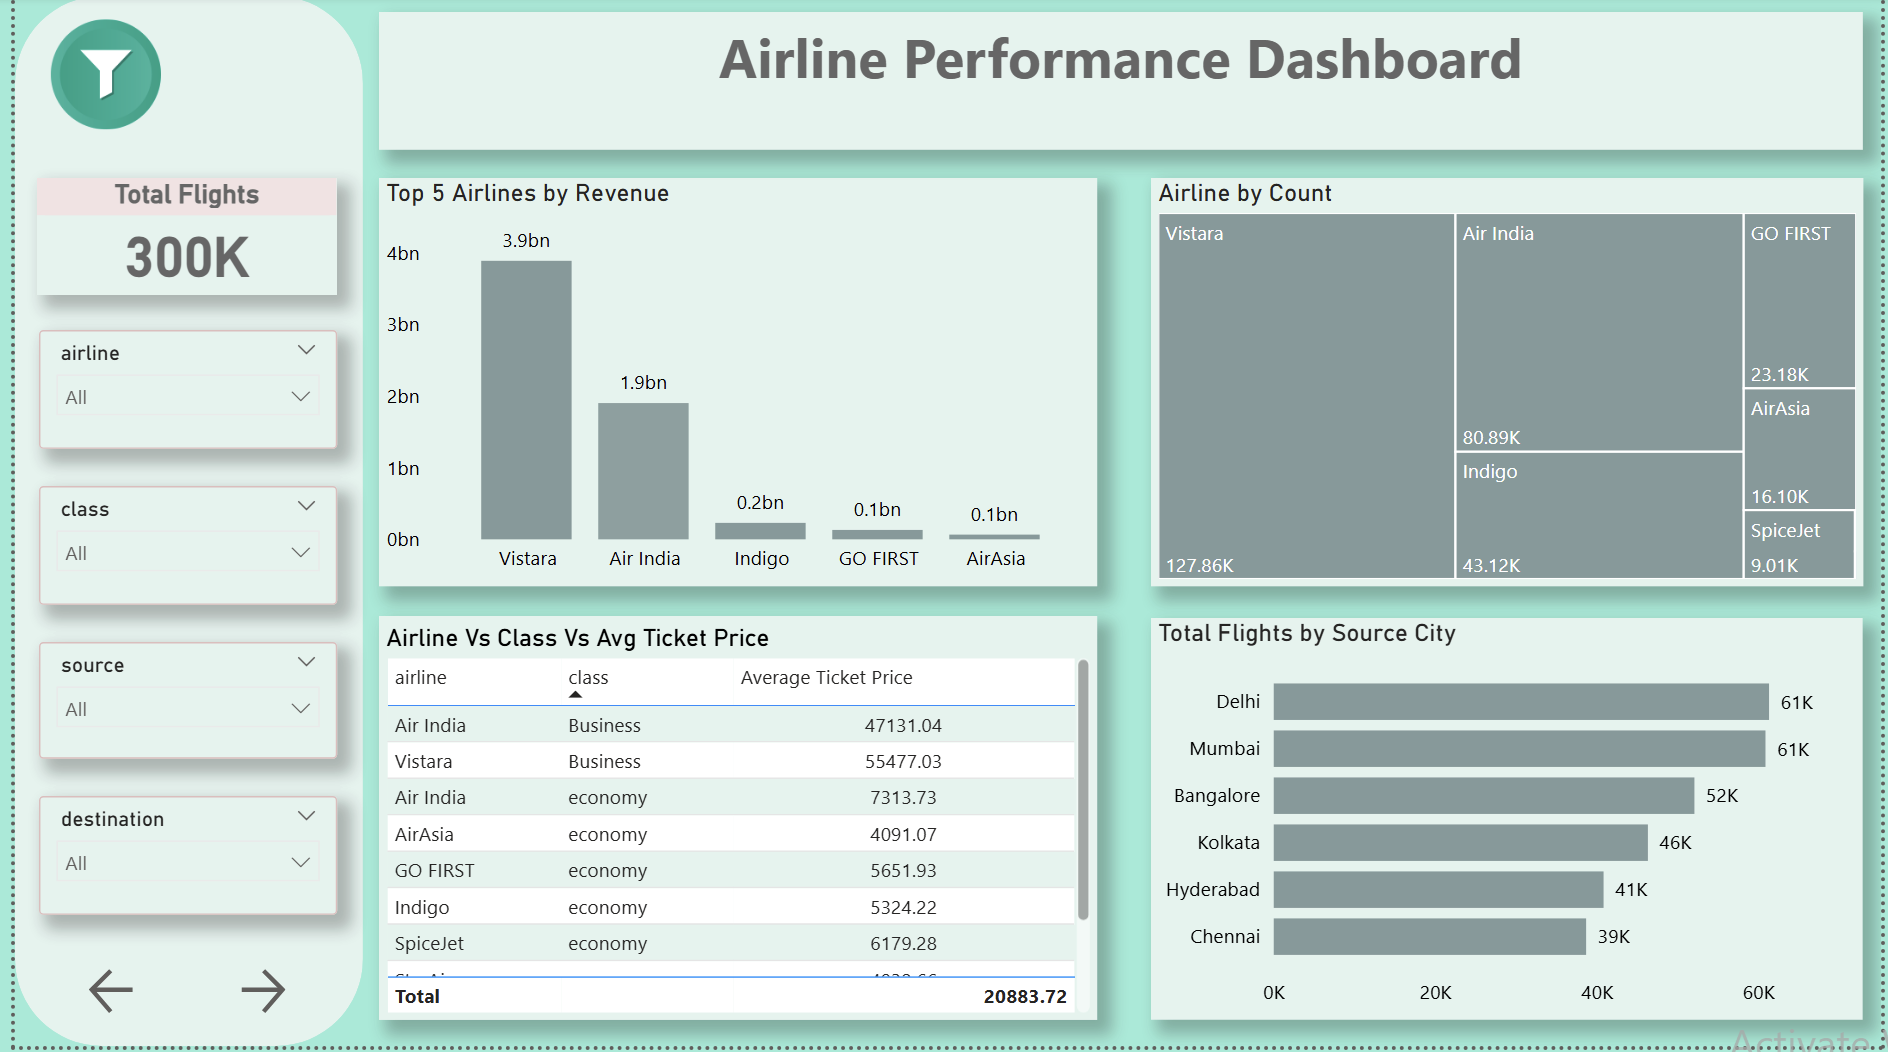

The page's visual inventory and layout, read from the dashboard file:
{"tool":"powerbi","page":{"name":"Airline Performance","canvas":[1280,720],"ordinal":0},"visuals":[{"type":"columnChart","title":"Top 5 Airlines by Revenue","fields":{"Category":["cleaned_flight_data.airline"],"Y":["cleaned_flight_data.total sales"]},"box":[249.6,124.8,492.3,279.8],"z":0},{"type":"treemap","title":"Airline by Count","fields":{"Group":["cleaned_flight_data.airline"],"Values":["CountNonNull(cleaned_flight_data.airline)"]},"box":[778.6,124.3,488.6,280],"z":1000},{"type":"tableEx","title":"Airline Vs Class Vs Avg Ticket Price","fields":{"Values":["cleaned_flight_data.airline","cleaned_flight_data.class","Avg(cleaned_flight_data.price)"]},"box":[249.6,425.1,492.3,277],"z":2000},{"type":"barChart","title":"Total Flights by Source City","fields":{"Category":["cleaned_flight_data.source"],"Y":["CountNonNull(cleaned_flight_data.flight_code)"]},"box":[779,426.5,488.2,275.7],"z":3000},{"type":"shape","box":[0,0,238.6,720],"z":4000},{"type":"slicer","fields":{"Values":["cleaned_flight_data.airline"]},"box":[16.1,229.6,204.3,81.4],"z":5000},{"type":"slicer","fields":{"Values":["cleaned_flight_data.source"]},"box":[16.1,443.2,204.3,80],"z":6000},{"type":"slicer","fields":{"Values":["cleaned_flight_data.destination"]},"box":[16.1,548.6,204.3,81.4],"z":7000},{"type":"slicer","fields":{"Values":["cleaned_flight_data.class"]},"box":[16.1,336.4,204.3,81.4],"z":8000},{"type":"textbox","box":[249.6,11,1017.6,94.6],"z":9000},{"type":"card","title":"Total Flights","fields":{"Values":["cleaned_flight_data.count_flights"]},"box":[15.4,124.3,205.7,80],"z":10000},{"type":"image","box":[15.7,11.4,94.3,85.7],"z":11000},{"type":"actionButton","box":[150,662.9,71.4,40],"z":12000},{"type":"actionButton","box":[47.1,662.9,72.9,40],"z":13000}]}

Visuals, with their boxes in screenshot pixels (x1, y1, x2, y2), scaled from the page's 1280x720 canvas onto the 1888x1052 screenshot:
"Top 5 Airlines by Revenue" columnChart: BBox(368, 182, 1094, 591)
"Airline by Count" treemap: BBox(1148, 182, 1869, 591)
"Airline Vs Class Vs Avg Ticket Price" tableEx: BBox(368, 621, 1094, 1026)
"Total Flights by Source City" barChart: BBox(1149, 623, 1869, 1026)
shape: BBox(0, 0, 352, 1051)
slicer - cleaned_flight_data.airline: BBox(24, 335, 325, 454)
slicer - cleaned_flight_data.source: BBox(24, 648, 325, 764)
slicer - cleaned_flight_data.destination: BBox(24, 802, 325, 920)
slicer - cleaned_flight_data.class: BBox(24, 492, 325, 610)
textbox: BBox(368, 16, 1869, 154)
"Total Flights" card: BBox(23, 182, 326, 299)
image: BBox(23, 17, 162, 142)
actionButton: BBox(221, 969, 327, 1027)
actionButton: BBox(69, 969, 177, 1027)
